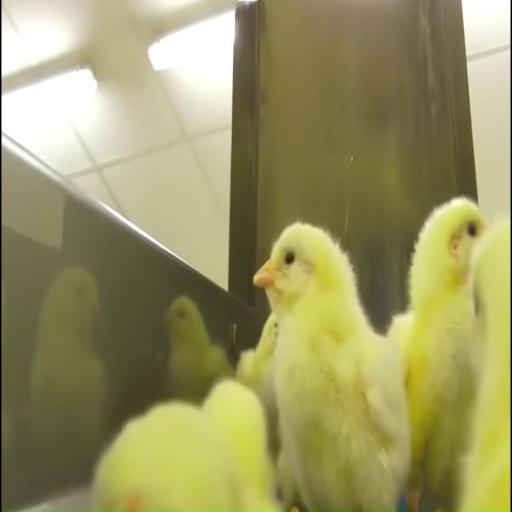chick: (254, 223, 410, 510), (388, 198, 483, 510), (94, 403, 278, 511), (31, 267, 106, 476), (460, 219, 510, 511), (204, 380, 274, 502), (165, 296, 234, 403), (236, 314, 279, 457), (277, 447, 300, 510), (2, 279, 5, 352)
